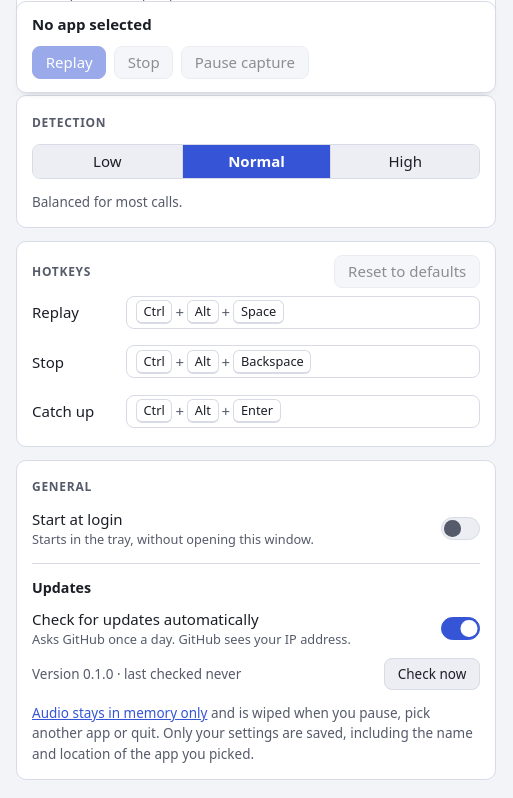
Test: general section updates › says what went wrong with a check the user asked for, next to the button
This screenshot has width=513, height=798.
(page scrolled)
Expected: the element named "Status" is shown, [16,0,496,92]
Click the button "Check now".
click(432, 674)  # box [384,658,480,690]
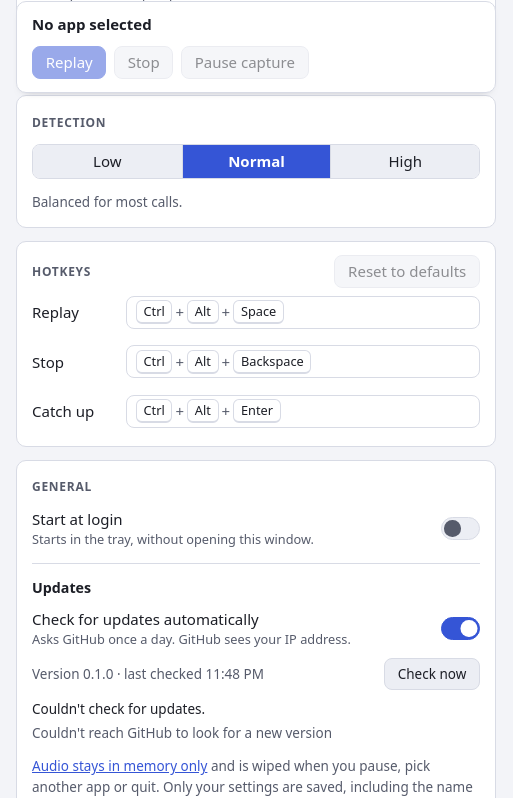
Expected: the message shows "Couldn't check for updates.", [32,700,205,718]
Expected: the message shows "Couldn't reach GitHub to look for a new version", [32,724,332,742]
